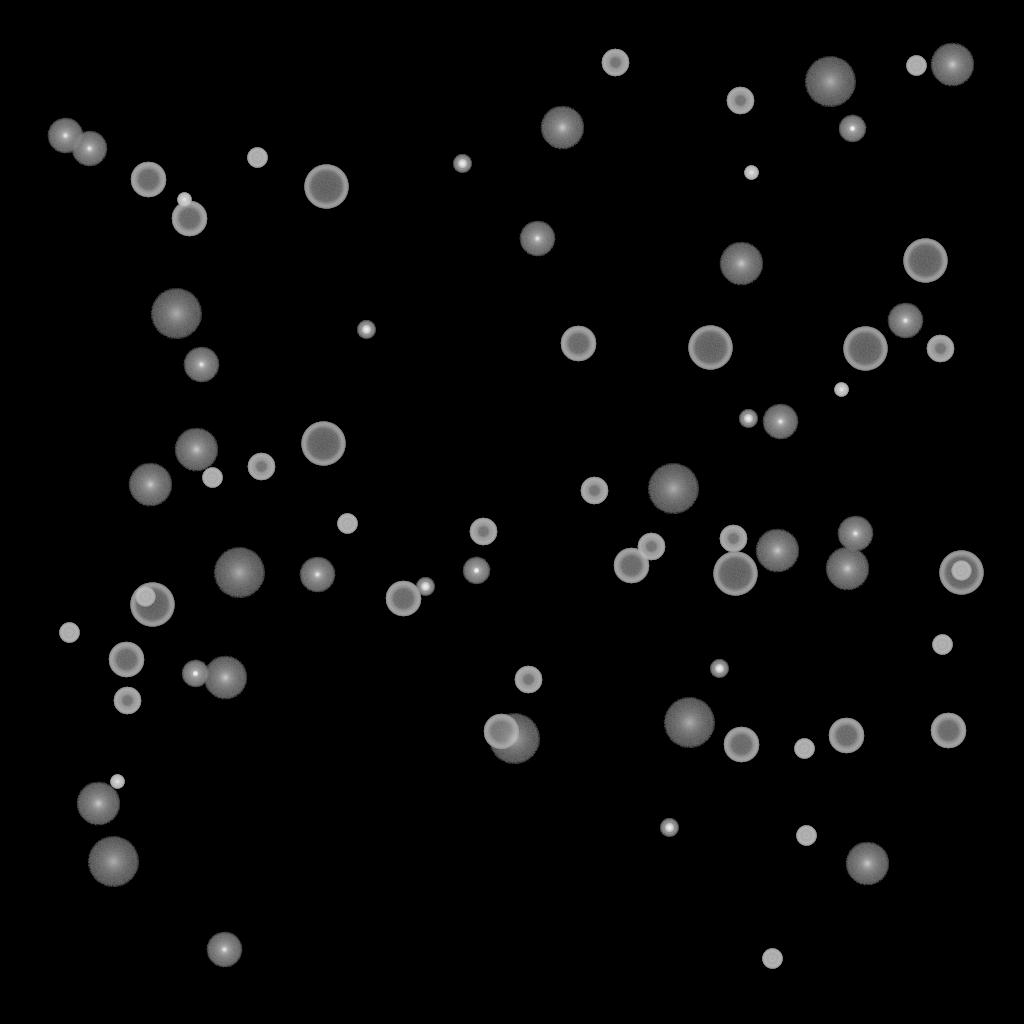depth:-10: (838, 115, 866, 143), (181, 660, 209, 688), (462, 557, 490, 585)
depth:-20: (357, 321, 375, 339), (453, 155, 471, 173), (739, 410, 757, 428), (660, 819, 678, 837), (710, 660, 728, 678), (416, 578, 434, 596)
depth:-30: (110, 775, 124, 789), (834, 383, 848, 397), (744, 166, 758, 180), (177, 193, 191, 207)
depth:-40: (794, 739, 814, 759), (202, 468, 222, 488), (59, 623, 79, 643), (796, 826, 816, 846), (135, 587, 155, 607), (337, 514, 357, 534), (932, 635, 952, 655), (247, 148, 267, 168), (762, 949, 782, 969), (906, 56, 926, 76), (951, 561, 971, 581)
depth:-50: (726, 87, 754, 115), (719, 525, 747, 553), (469, 518, 497, 546), (514, 666, 542, 694), (601, 49, 629, 77), (247, 453, 275, 481), (113, 687, 141, 715), (926, 335, 954, 363), (580, 477, 608, 505), (637, 533, 665, 561)
depth:-60: (613, 548, 649, 584), (930, 713, 966, 749), (560, 326, 596, 362), (723, 727, 759, 763), (130, 162, 166, 198), (171, 201, 207, 237), (385, 581, 421, 617), (483, 714, 519, 750), (108, 642, 144, 678), (828, 718, 864, 754)
depth:-70: (903, 239, 947, 283), (130, 583, 174, 627), (713, 552, 757, 596), (843, 327, 887, 371), (304, 165, 348, 209), (939, 551, 983, 595), (301, 422, 345, 466), (688, 326, 732, 370)
depth:0: (47, 118, 83, 154), (837, 516, 873, 552), (299, 557, 335, 593), (519, 221, 555, 257), (887, 303, 923, 339), (206, 932, 242, 968), (183, 347, 219, 383), (71, 131, 107, 167), (762, 404, 798, 440)
depth:10: (825, 547, 869, 591), (540, 106, 584, 150), (174, 428, 218, 472), (755, 529, 799, 573), (719, 242, 763, 286), (845, 842, 889, 886), (128, 463, 172, 507), (930, 43, 974, 87), (76, 782, 120, 826), (203, 656, 247, 700)
depth:20: (647, 464, 699, 514), (663, 698, 715, 748), (213, 548, 265, 598), (804, 57, 856, 107), (150, 289, 202, 339), (488, 714, 540, 764), (87, 837, 139, 887)
